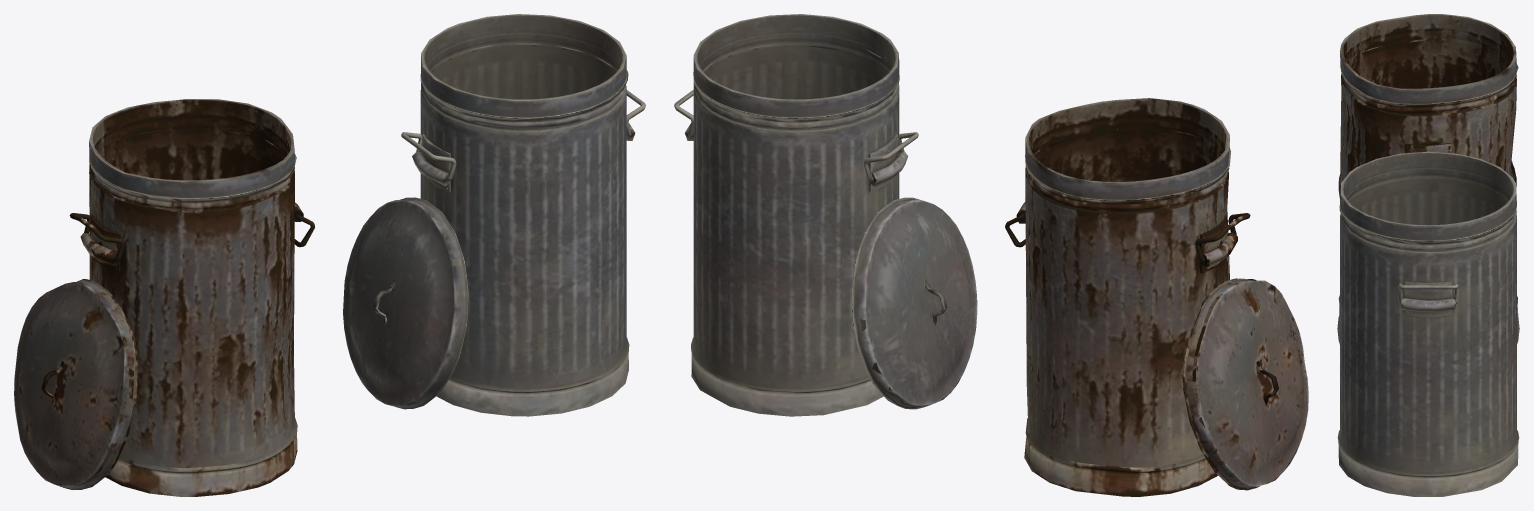
The model's file is metal_trash_can.glb.
The picture shows the model from 3 angles, left to right: view 1: azimuth 30°, elevation 25°; view 2: azimuth 150°, elevation 25°; view 3: azimuth 270°, elevation 25°; orthographic projection. The views are drawn at different scales.
Visible parts, largest first — view 1: metal_trash_can, metal_trash_can_rust, metal_trash_can_lid, metal_trash_can_rust_lid; view 2: metal_trash_can, metal_trash_can_rust, metal_trash_can_lid, metal_trash_can_rust_lid; view 3: metal_trash_can, metal_trash_can_rust, metal_trash_can_handle_right.
Part boxes in pixels (bbox=[...]): metal_trash_can: bbox=[412, 14, 635, 416]; metal_trash_can_rust: bbox=[80, 99, 303, 496]; metal_trash_can_lid: bbox=[343, 197, 468, 409]; metal_trash_can_rust_lid: bbox=[14, 279, 137, 489]; metal_trash_can: bbox=[685, 14, 907, 416]; metal_trash_can_rust: bbox=[1016, 98, 1237, 496]; metal_trash_can_lid: bbox=[851, 197, 977, 409]; metal_trash_can_rust_lid: bbox=[1183, 278, 1308, 490]; metal_trash_can: bbox=[1337, 151, 1519, 496]; metal_trash_can_rust: bbox=[1338, 14, 1518, 316]; metal_trash_can_handle_right: bbox=[1398, 283, 1458, 303].
Bounding box in the file's own units: 1.78 × 0.9062 × 0.5543.
Materials: 2 (2 with a texture image).
